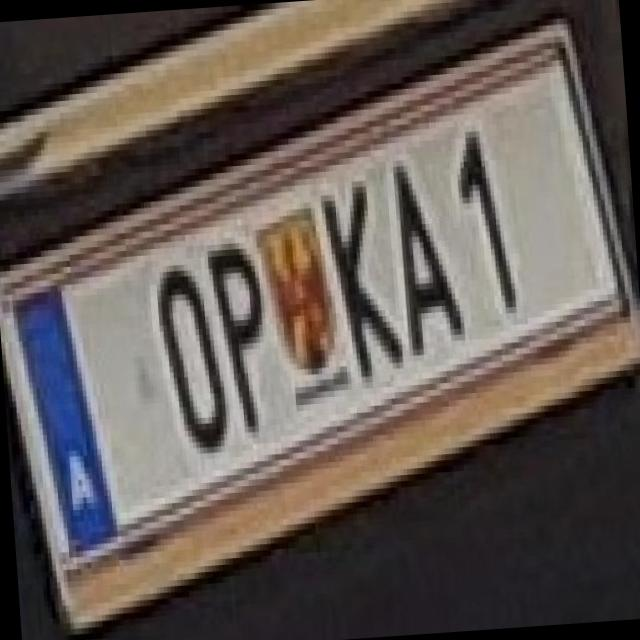0: (136, 243, 232, 462)
1: (434, 105, 530, 312)
A: (370, 133, 470, 363)
K: (304, 154, 411, 380)
P: (191, 216, 284, 442)
